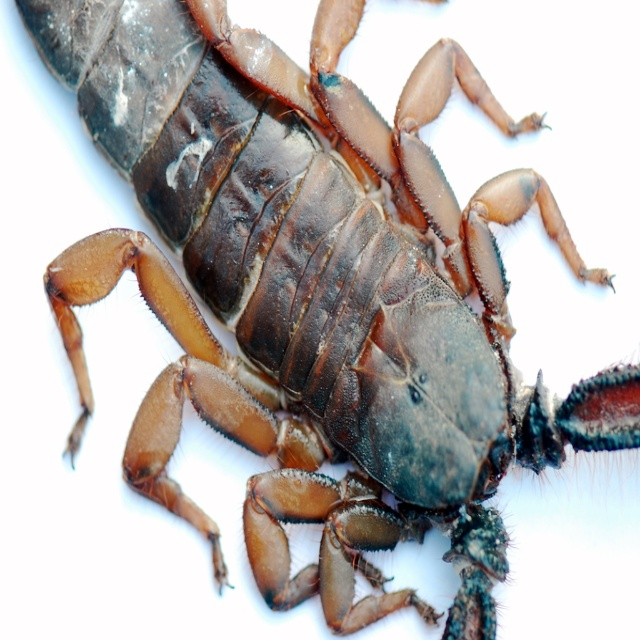Scorpion: (16, 0, 640, 639)
